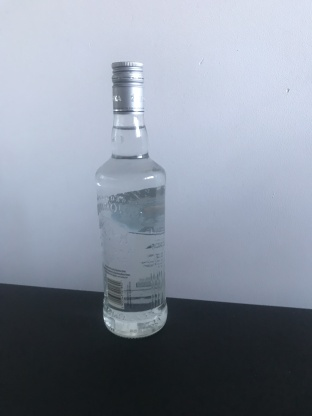nakretka: (110, 60, 146, 116)
